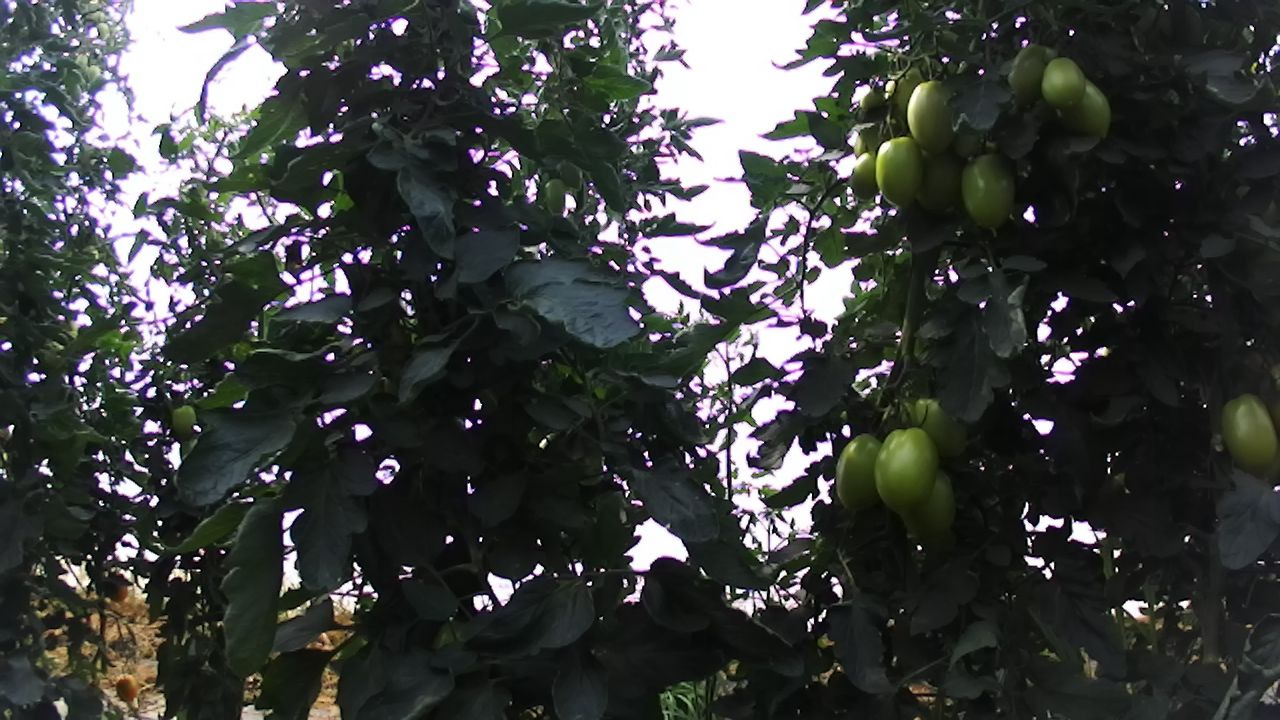tomato: (869, 422, 940, 520), (1213, 387, 1280, 480), (900, 73, 968, 161), (958, 149, 1017, 239), (1049, 73, 1119, 142), (832, 431, 885, 516), (873, 131, 926, 213), (1003, 37, 1050, 112), (1036, 52, 1089, 111), (848, 146, 882, 205)
